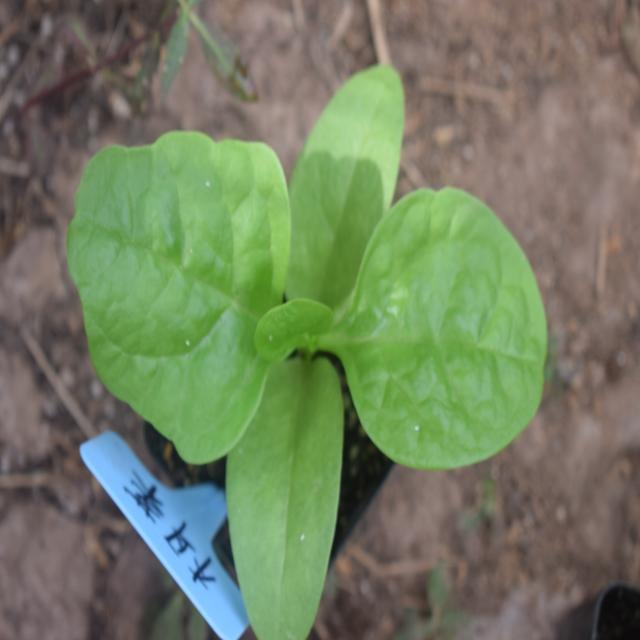Ceylon spinach: (60, 108, 555, 545)
